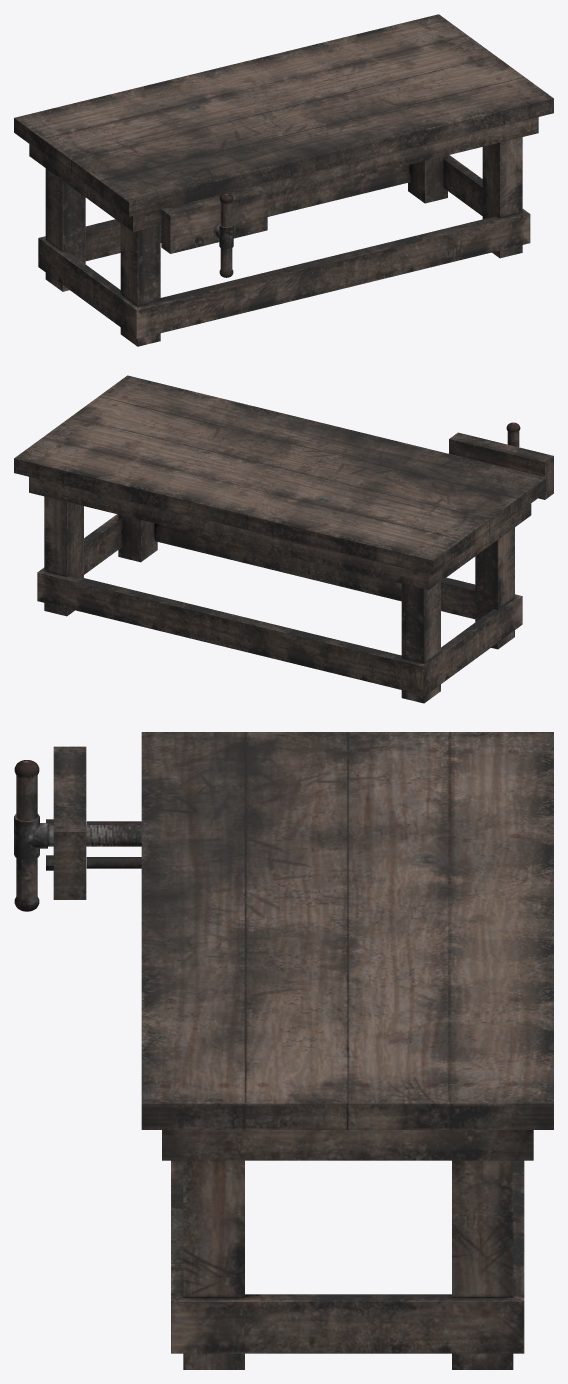
Rendered from runebench.glb.
3 views of the same model, one above another, from view 1: azimuth 30°, elevation 25°; view 2: azimuth 150°, elevation 25°; view 3: azimuth 270°, elevation 25° (orthographic). The views are drawn at different scales.
Visible parts, largest first — view 1: Bench_low, Vise_low; view 2: Bench_low, Vise_low; view 3: Bench_low, Vise_low.
Part boxes in pixels (x1,y1,x2,y2): Bench_low: (14, 14, 553, 346); Vise_low: (161, 185, 267, 277); Bench_low: (14, 375, 546, 703); Vise_low: (449, 422, 553, 499); Bench_low: (141, 732, 553, 1369); Vise_low: (14, 746, 141, 911).
Size of the model in its own units: 311 by 121 by 191.
Materials: 1 (1 with a texture image).
